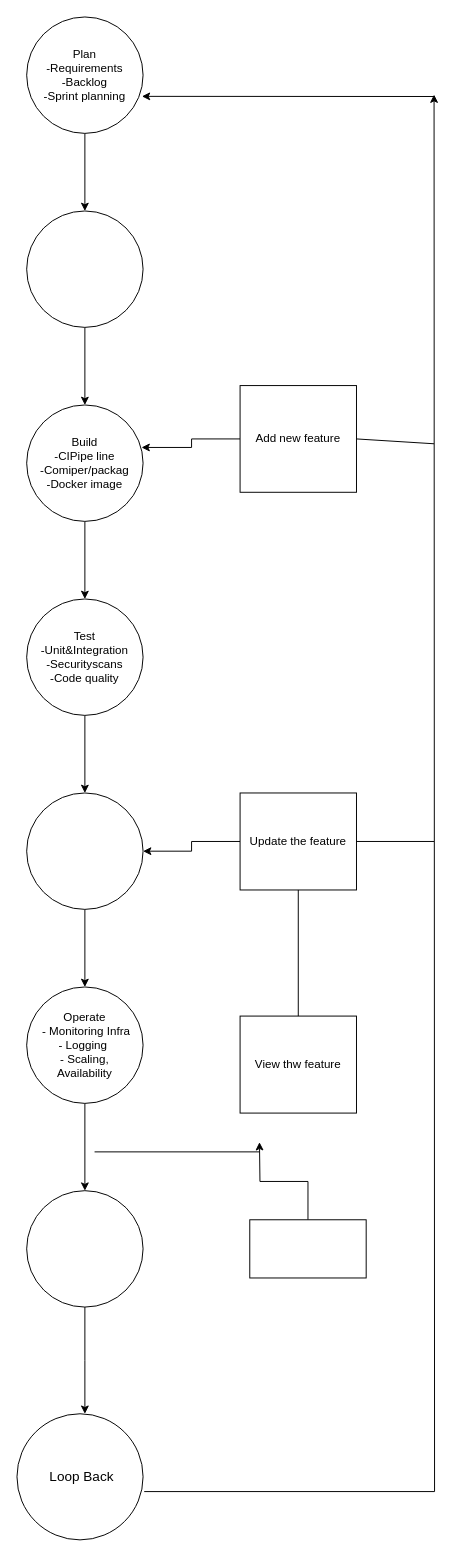
Image size: 460x1557. Some labels were removed from this diagram. The shapes that lost their labels are listed below. From the top down, each one's centre as x and y in pixels, then its label:
pixel 84 268: Develop -code(Git) -Branching&PRs
pixel 84 850: Deploy - Production Push - Blue/Green Deploy - K8s/Cloud Infra
pixel 84 1248: Monitor&Feedback - User Experience - App Performance - Bug Reports
pixel 307 1248: Delete the feature
